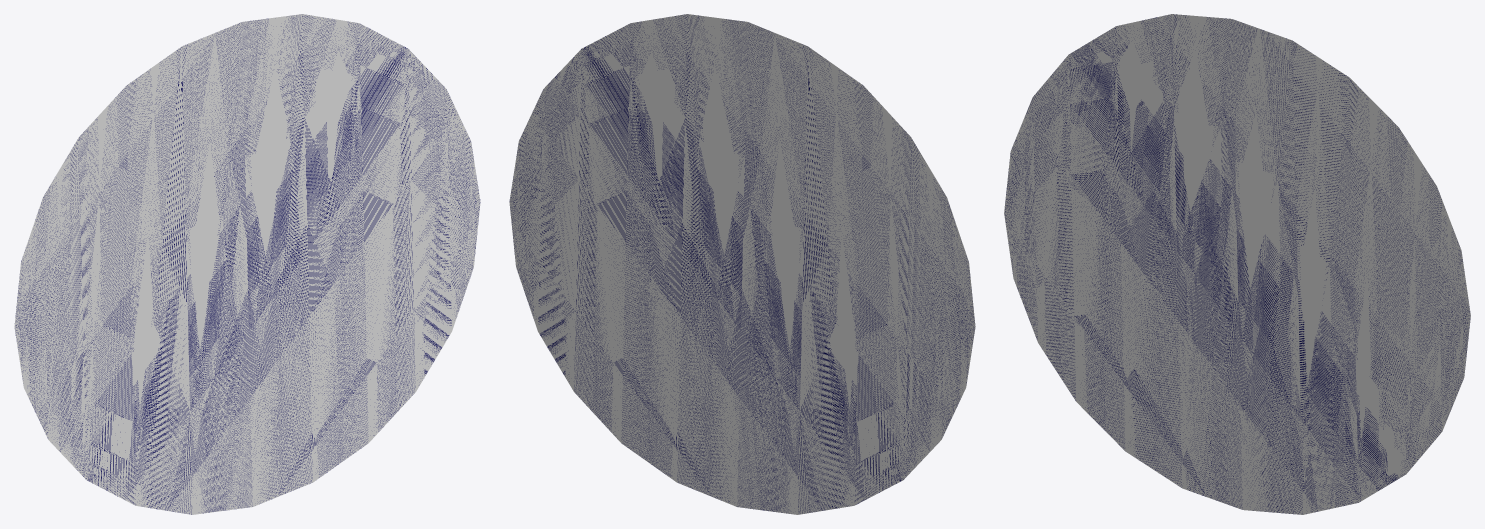
File: original-124.obj
The picture shows the model from 3 angles, left to right: view 1: azimuth 30°, elevation 25°; view 2: azimuth 150°, elevation 25°; view 3: azimuth 330°, elevation 25°; orthographic projection.
Parts seen in each view (by area): view 1: Group18/mesh19/mesh19-geometry/material_2/component_0#mesh19-geo; view 2: Group18/mesh19/mesh19-geometry/material_2/component_0#mesh19-geo; view 3: Group18/mesh19/mesh19-geometry/material_2/component_0#mesh19-geo.
Boxes of the visible parts, x1,y1,x2,y2 form: Group18/mesh19/mesh19-geometry/material_2/component_0#mesh19-geo: (14, 14, 480, 514); Group18/mesh19/mesh19-geometry/material_2/component_0#mesh19-geo: (509, 14, 975, 514); Group18/mesh19/mesh19-geometry/material_2/component_0#mesh19-geo: (1004, 14, 1470, 514).
Size of the model in its own units: 0.025 by 0.025 by 0.
